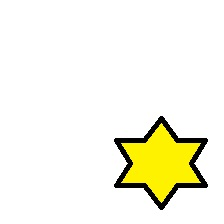star: (113, 116, 208, 210)
